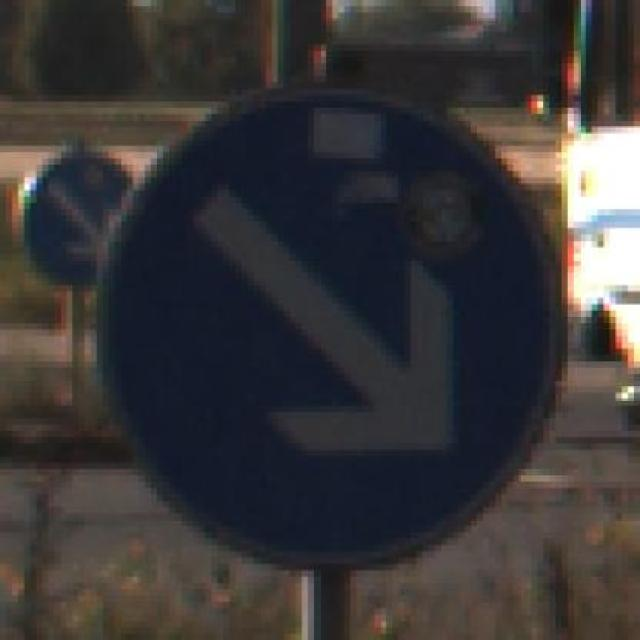Keep-Right: (66, 51, 586, 589)
